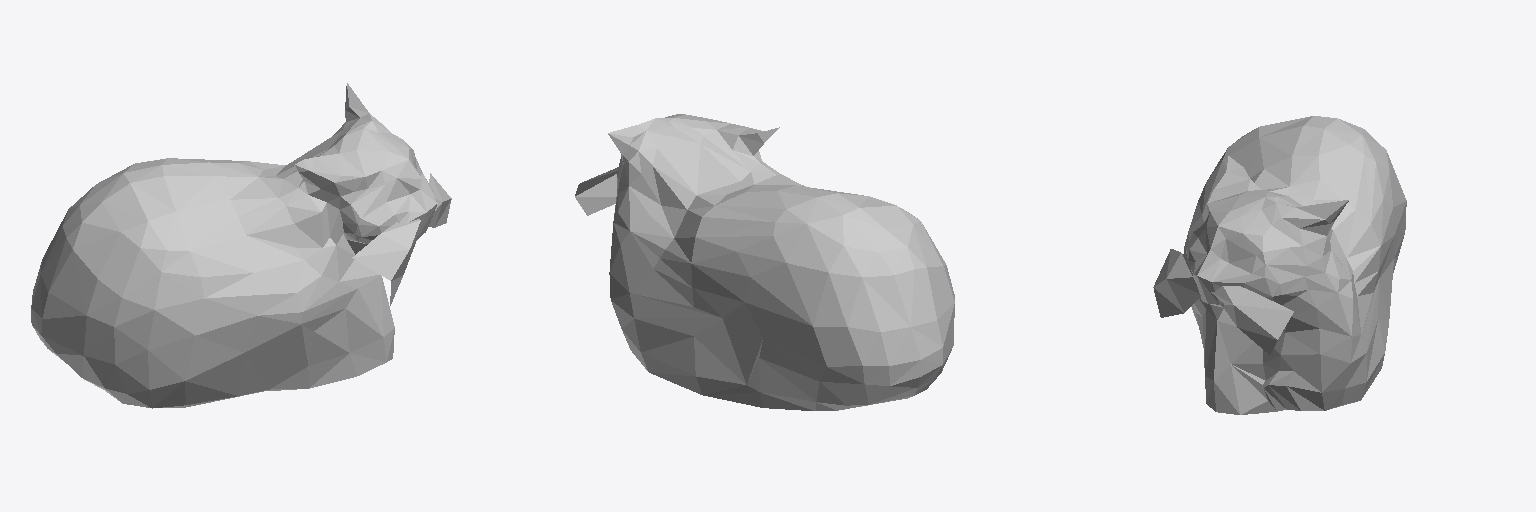
The model's file is dingus.obj.
The picture shows the model from 3 angles: view 1: azimuth 30°, elevation 25°; view 2: azimuth 150°, elevation 25°; view 3: azimuth 270°, elevation 25°; orthographic projection.
Parts seen in each view (by area): view 1: dingus; view 2: dingus; view 3: dingus.
Boxes of the visible parts, box(x1,y1,x2,y2) form: dingus: box(31, 83, 451, 408); dingus: box(575, 114, 954, 410); dingus: box(1153, 116, 1406, 414).
Bounding box in the file's own units: 1.66 × 0.9607 × 0.9373.